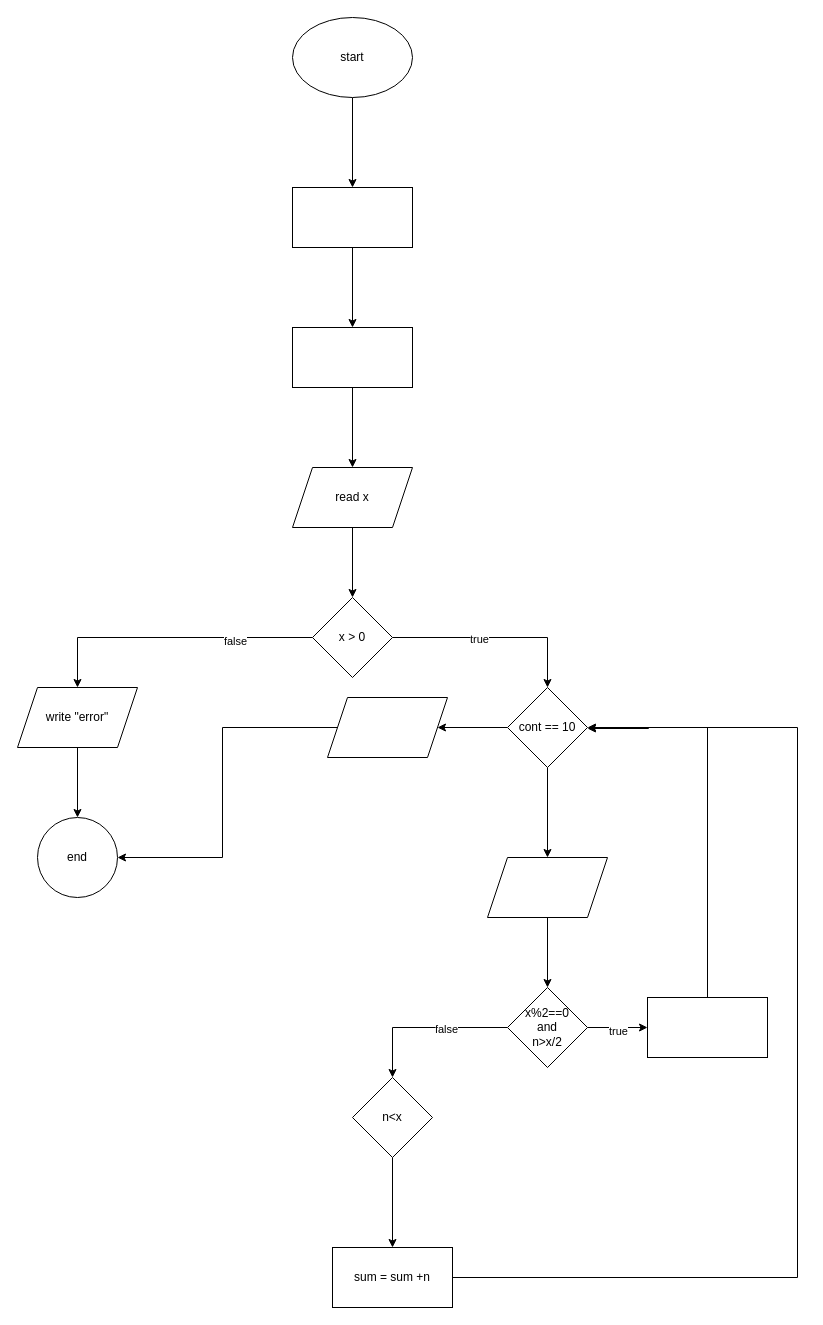
The diagram is 823 pixels wide and 1325 high, and some of its shapes have lost their labels. The centre of each missing label's shape, as x and y in pixels:
cont = 1: the point at 352,217
read n: the point at 547,887
sum = 0: the point at 352,357
sum = sum+n: the point at 707,1027
write "som": the point at 387,727
